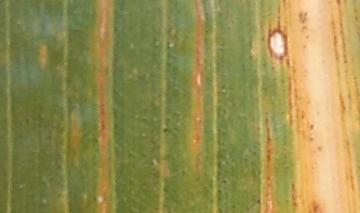tarspot: (297, 9, 307, 24), (284, 56, 290, 71), (299, 24, 307, 34), (308, 122, 314, 135), (161, 126, 169, 134), (315, 144, 323, 152), (307, 135, 314, 144), (280, 1, 287, 9), (259, 34, 266, 42), (301, 42, 307, 51), (112, 24, 118, 33), (247, 53, 253, 62), (335, 1, 342, 8), (254, 198, 261, 205), (203, 28, 210, 34), (220, 178, 227, 184), (304, 34, 310, 40), (217, 187, 222, 194)
